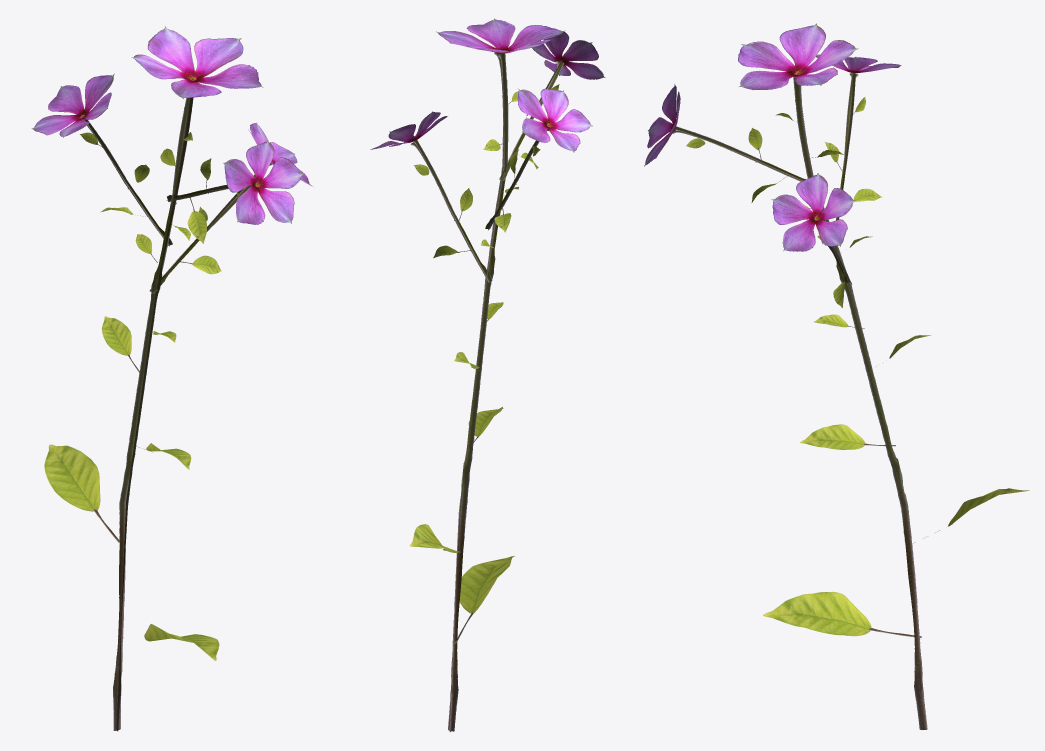
File: PurpleFlower_1.fbx
The picture shows the model from 3 angles, left to right: view 1: azimuth 30°, elevation 25°; view 2: azimuth 150°, elevation 25°; view 3: azimuth 270°, elevation 25°; orthographic projection. The views are drawn at different scales.
Parts seen in each view (by area): view 1: PurpleFlower_1; view 2: PurpleFlower_1; view 3: PurpleFlower_1.
Boxes of the visible parts, box(x1,y1,x2,y2) form: PurpleFlower_1: box(31, 26, 312, 731); PurpleFlower_1: box(370, 18, 605, 731); PurpleFlower_1: box(644, 23, 1029, 729).
Size of the model in its own units: 0.1402 by 0.3676 by 0.1876.
